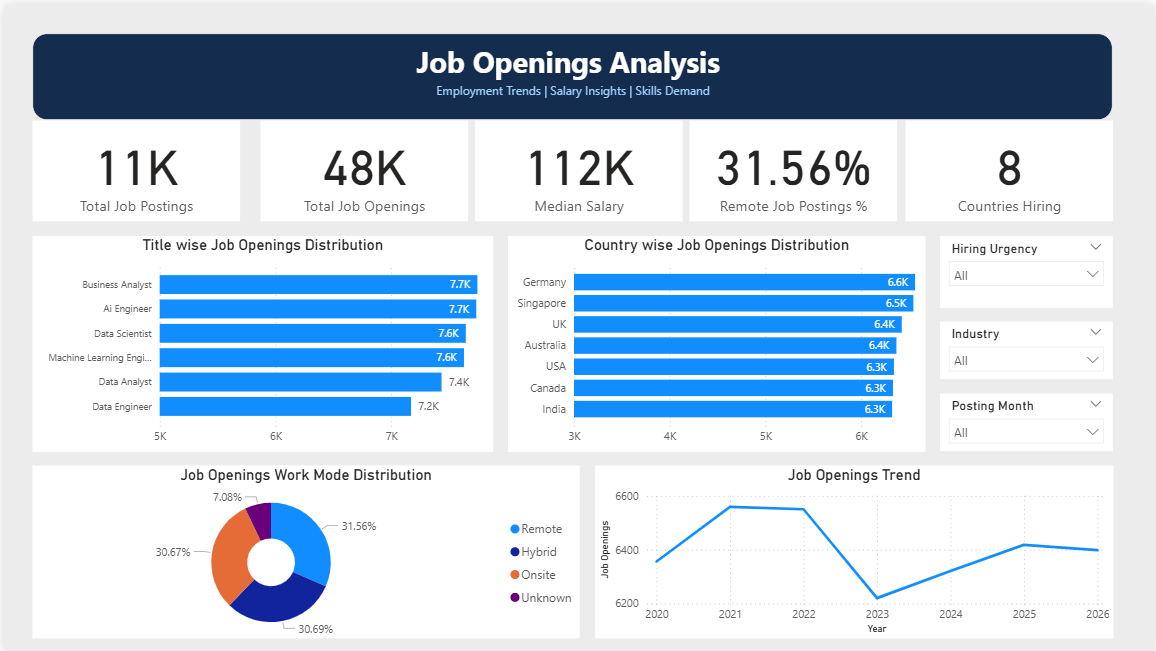

This screenshot's page, from the dashboard's own definition file:
{"tool":"powerbi","page":{"name":"Job Openings Analysis","canvas":[1280,720],"ordinal":0},"visuals":[{"type":"card","fields":{"Values":["Measures (2).Total Job Postings"]},"box":[32,128,230.8,112],"z":0,"group":"g1"},{"type":"clusteredBarChart","title":"Title wise Job Openings Distribution","fields":{"Category":["Final Dataset.JobTitle_Final"],"Y":["Sum(Final Dataset.Job_Openings_Final)"]},"box":[32,256,512,240],"z":0},{"type":"card","fields":{"Values":["Measures (2).Total Job Openings"]},"box":[285.8,128,230.8,112],"z":1000,"group":"g1"},{"type":"clusteredBarChart","title":"Country wise Job Openings Distribution","fields":{"Category":["Final Dataset.Country_Final"],"Y":["Sum(Final Dataset.Job_Openings_Final)"]},"box":[560,256,464,240],"z":1000},{"type":"textbox","box":[32,32,1200,96],"z":2000},{"type":"card","fields":{"Values":["Measures (2).Remote Job Postings %"]},"box":[762.5,128,230.8,112],"z":2000,"group":"g1"},{"type":"group","id":"g1","title":"Group 1","box":[32,128,1200,112],"z":3000},{"type":"card","fields":{"Values":["Measures (2).Median Salary"]},"box":[523.8,128,230.8,112],"z":3000,"group":"g1"},{"type":"card","title":"Median Salary","fields":{"Values":["Measures (2).Countries Hiring"]},"box":[1001.2,128,230.8,112],"z":4000,"group":"g1"},{"type":"donutChart","title":"Job Openings Work Mode Distribution","fields":{"Category":["Final Dataset.Remote_Type_Final"],"Y":["Measures (2).Total Job Postings"]},"box":[32,512,608,192],"z":4000},{"type":"lineChart","title":"Job Openings Trend","fields":{"Category":["Final Dataset.Posting_Year_Final"],"Y":["Sum(Final Dataset.Job_Openings_Final)"]},"box":[656,512,576,192],"z":5000},{"type":"textbox","box":[448,80,368,32],"z":6000},{"type":"slicer","fields":{"Values":["Final Dataset.Posting_Month_Final"]},"box":[1040,432,192,64],"z":7000},{"type":"slicer","fields":{"Values":["Final Dataset.Company_Industry_Final"]},"box":[1040,352,192,64],"z":8000},{"type":"slicer","fields":{"Values":["Final Dataset.Hiring_Urgency_Final"]},"box":[1040,256,192,80],"z":9000}]}

Visuals, with their boxes in screenshot pixels (x1, y1, x2, y2), scaled from the page's 1280x720 canvas onto the 1156x651 screenshot:
card - Measures (2).Total Job Postings: 29:116:237:217
"Title wise Job Openings Distribution" clusteredBarChart: 29:231:491:448
card - Measures (2).Total Job Openings: 258:116:467:217
"Country wise Job Openings Distribution" clusteredBarChart: 506:231:925:448
textbox: 29:29:1113:116
card - Measures (2).Remote Job Postings %: 689:116:897:217
"Group 1" group: 29:116:1113:217
card - Measures (2).Median Salary: 473:116:681:217
"Median Salary" card: 904:116:1113:217
"Job Openings Work Mode Distribution" donutChart: 29:463:578:637
"Job Openings Trend" lineChart: 592:463:1113:637
textbox: 405:72:737:101
slicer - Final Dataset.Posting_Month_Final: 939:391:1113:448
slicer - Final Dataset.Company_Industry_Final: 939:318:1113:376
slicer - Final Dataset.Hiring_Urgency_Final: 939:231:1113:304
